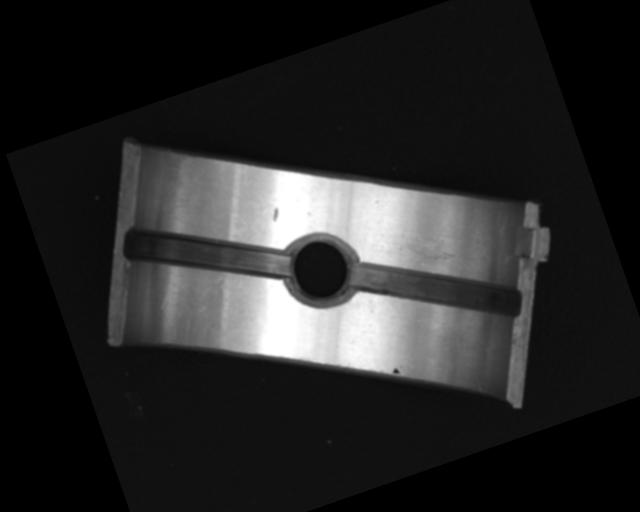blot: (390, 365, 403, 377)
bruise: (268, 206, 282, 222)
gap: (117, 182, 294, 323), (348, 217, 522, 358)
hole: (276, 221, 365, 315)
scratch: (390, 212, 473, 294)
